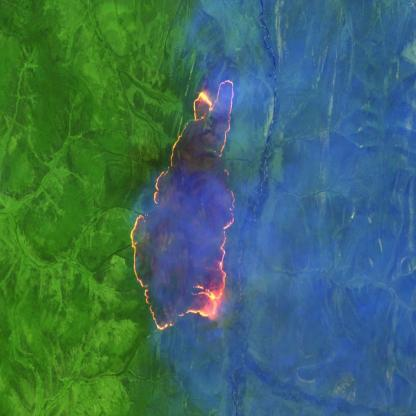fire: (129, 76, 238, 334)
